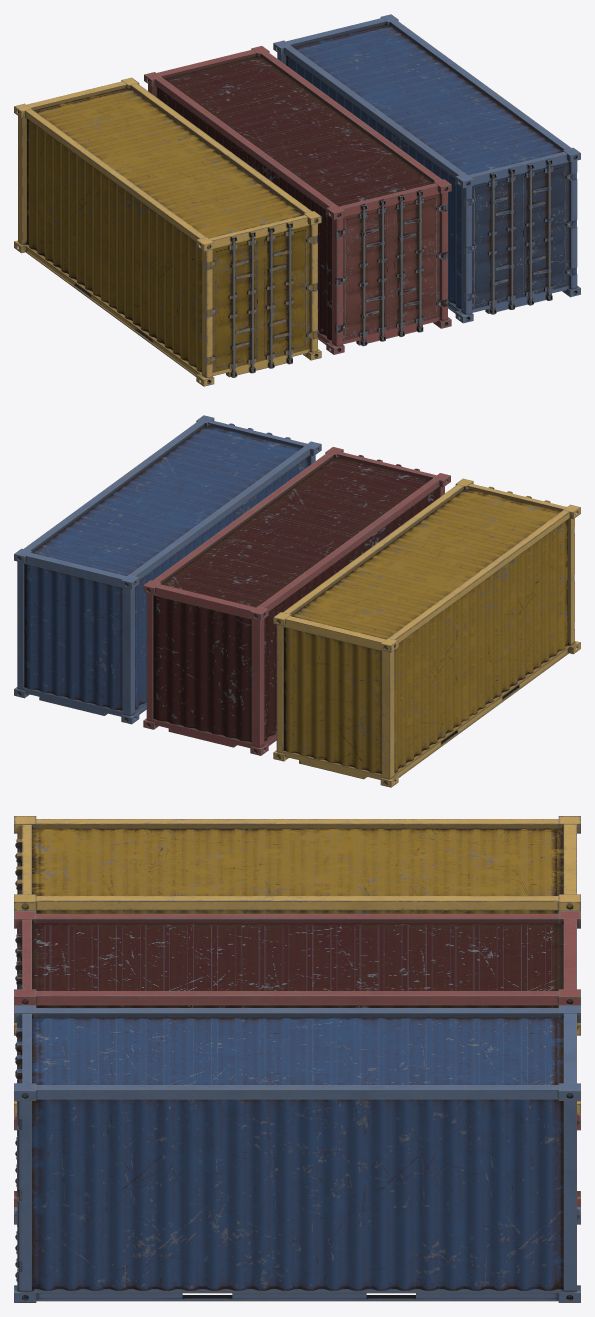
Rendered from shipping_containers.glb.
The picture shows the model from 3 angles, top to bottom: view 1: azimuth 30°, elevation 25°; view 2: azimuth 150°, elevation 25°; view 3: azimuth 270°, elevation 25°; orthographic projection. The views are drawn at different scales.
Visible parts, largest first — view 1: Cylinder.028, Cylinder.025, Cylinder.023; view 2: Cylinder.028, Cylinder.025, Cylinder.023; view 3: Cylinder.023, Cylinder.025, Cylinder.028.
Boxes of the visible parts, bbox=[...] form: Cylinder.028: bbox=[14, 77, 321, 386]; Cylinder.025: bbox=[144, 46, 451, 354]; Cylinder.023: bbox=[273, 14, 580, 323]; Cylinder.028: bbox=[273, 478, 580, 787]; Cylinder.025: bbox=[143, 447, 450, 755]; Cylinder.023: bbox=[14, 415, 321, 724]; Cylinder.023: bbox=[14, 1005, 580, 1302]; Cylinder.025: bbox=[14, 911, 580, 1206]; Cylinder.028: bbox=[14, 816, 580, 1112].
Bounding box in the file's own units: 6.46 × 2.31 × 5.62.
Materials: 3 (3 with a texture image).
